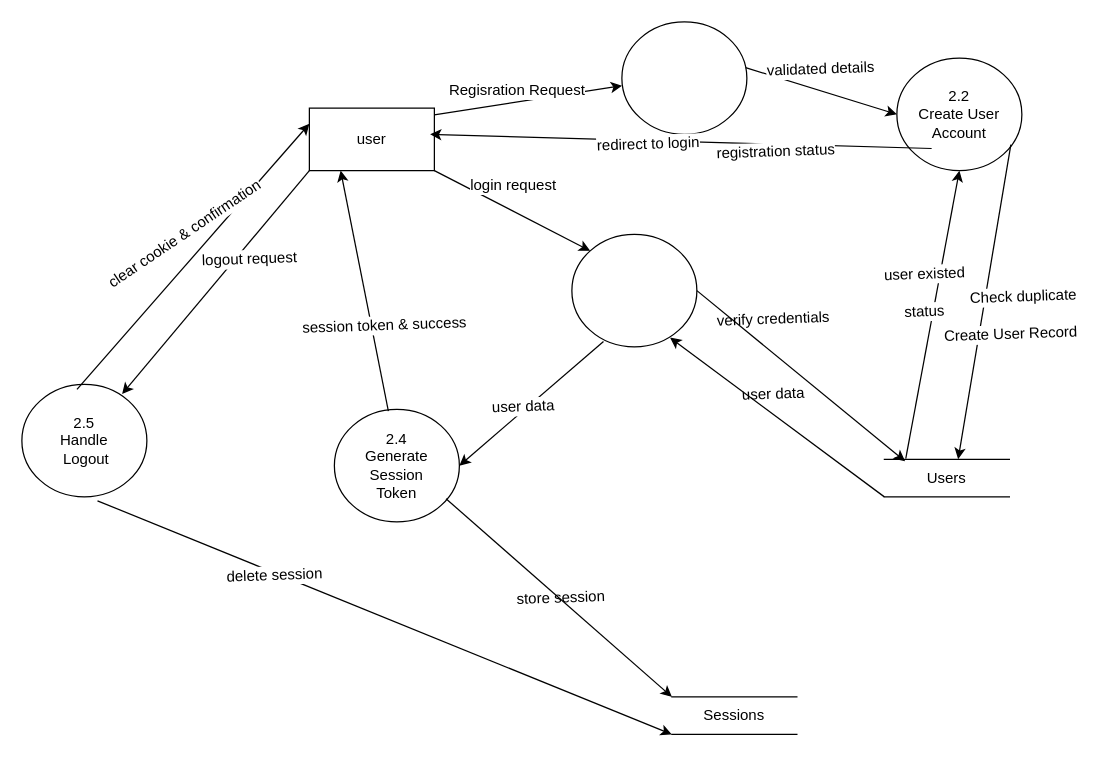
Some shapes in this 1100 by 766 pixel diagram are drawn without their labels. The shapes that lost their labels are listed below. From the top down, each one's box as (x1, y1, x2, y2) in pixels, then its label:
(621, 21, 747, 134): 2.1 Validate Registration Date
(571, 233, 697, 347): 2.3 Authenticate User
